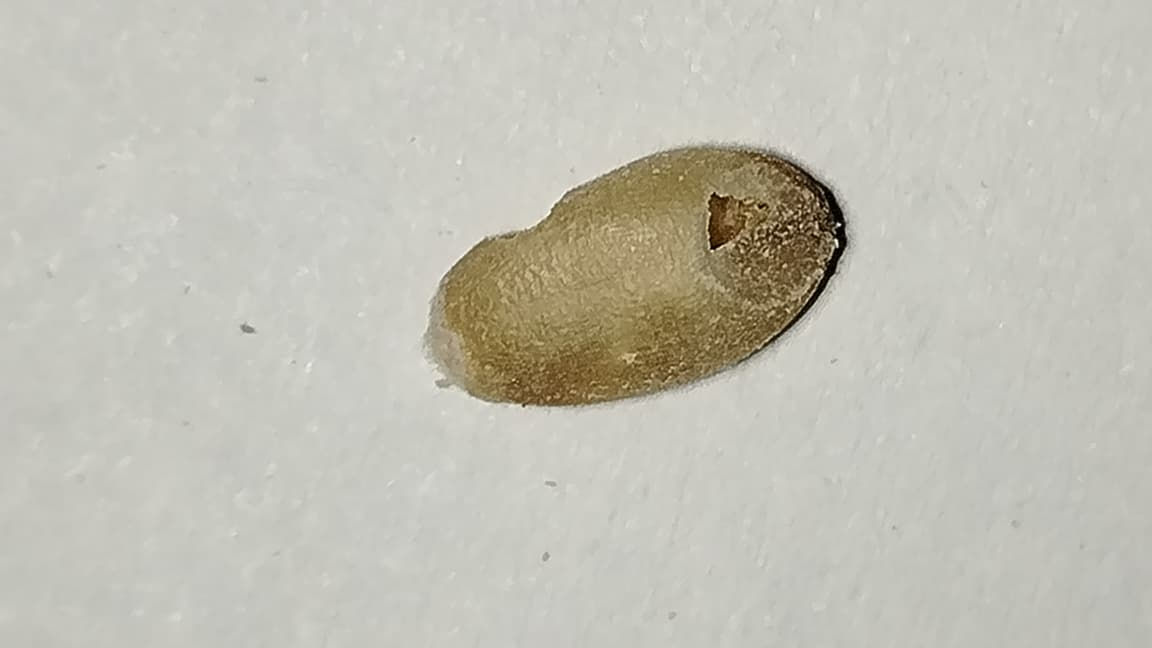damage: (425, 147, 844, 404)
insectdamage: (701, 159, 836, 310), (490, 188, 580, 243)
